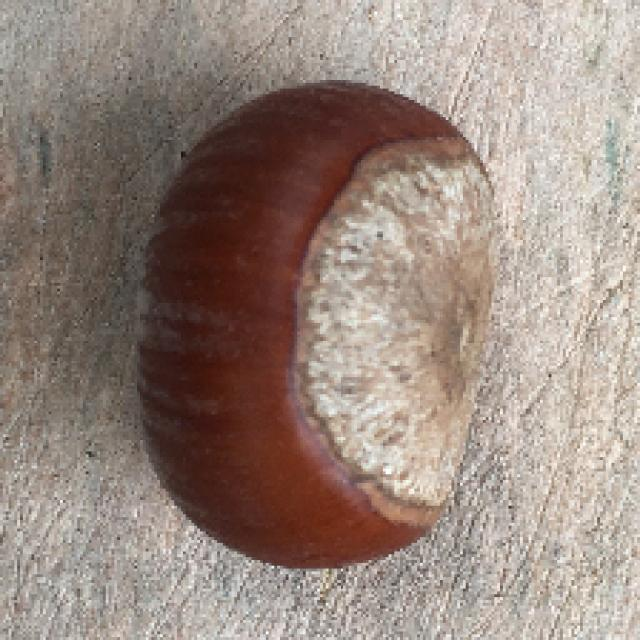qualityHazelnut: (119, 73, 512, 585)
